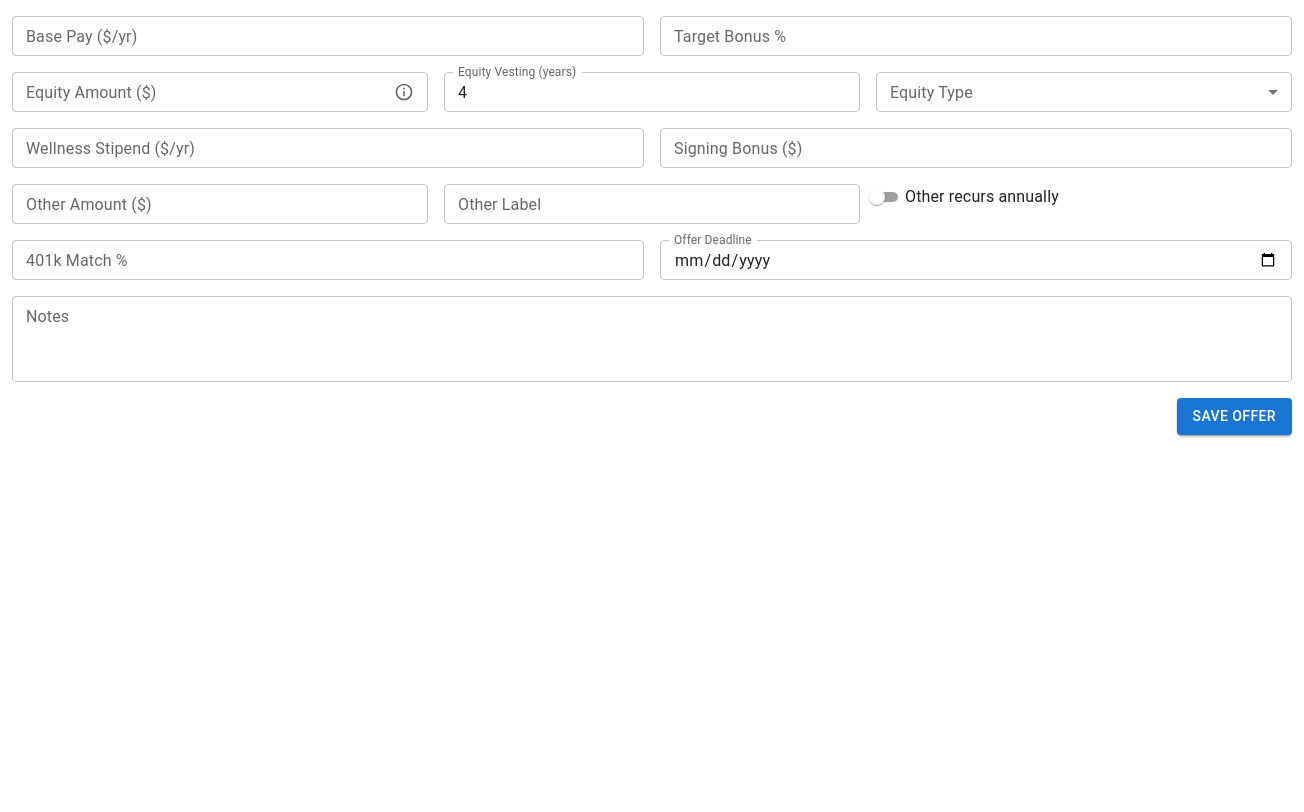
offerTab › save Offer — POST on first save › shows a success snackbar after saving
This screenshot has width=1304, height=812.
Click the button "Save Offer" at (1234, 416), box [1177,398,1292,434]
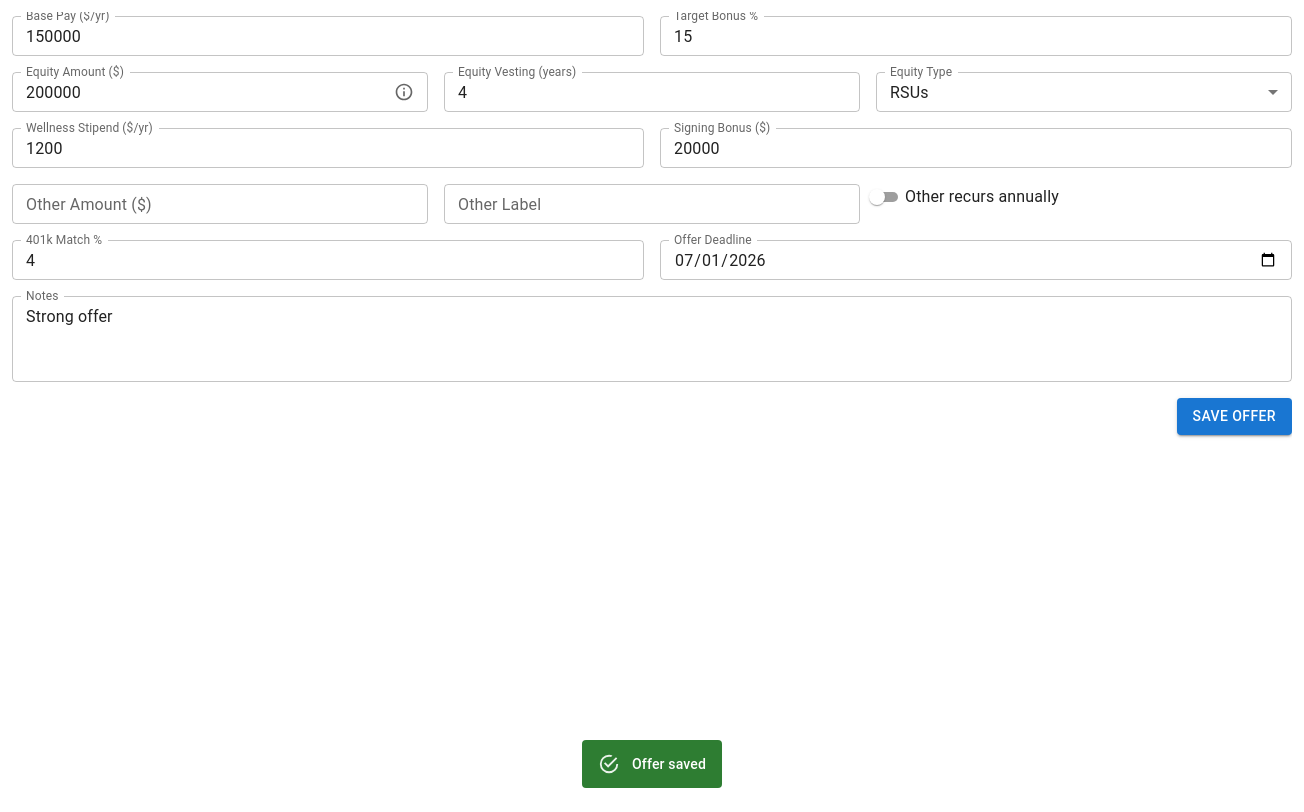
expect the text "Offer saved" is shown: met, box [632,756,706,772]
